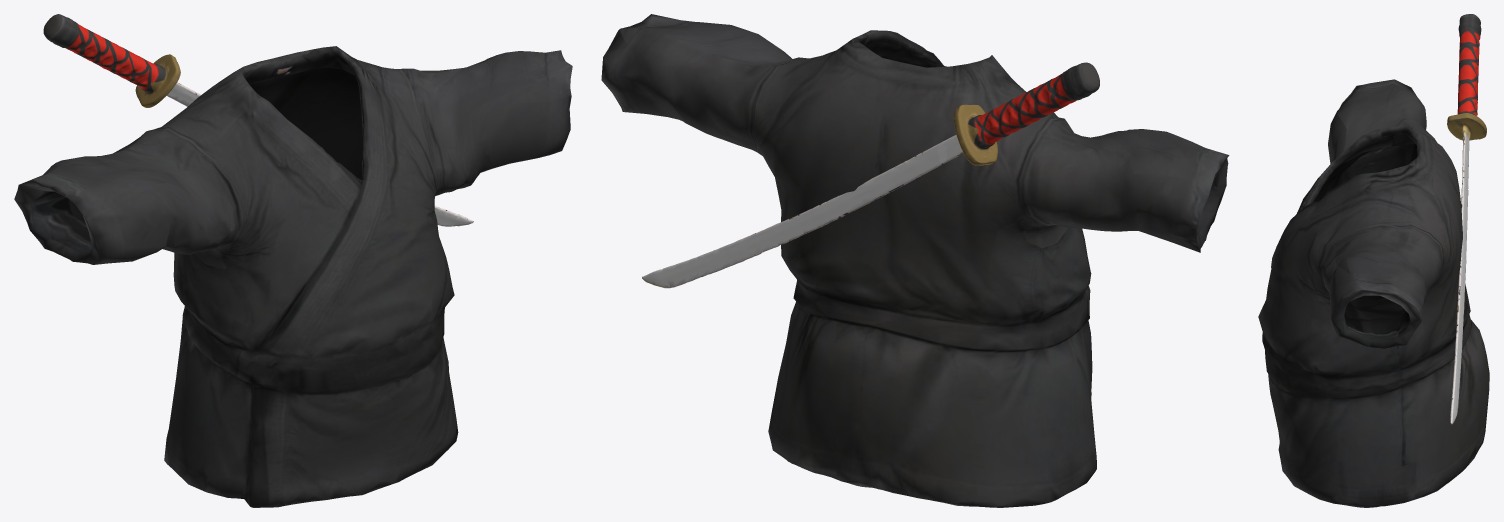
The model's file is Ninja.glb.
3 renders of one model, left to right at view 1: azimuth 30°, elevation 25°; view 2: azimuth 150°, elevation 25°; view 3: azimuth 270°, elevation 25°, orthographic. The views are drawn at different scales.
Parts seen in each view (by area): view 1: Ninja; view 2: Ninja; view 3: Ninja.
Boxes of the visible parts, x1=… form: Ninja: x1=14, y1=14, x2=572, y2=507; Ninja: x1=601, y1=14, x2=1229, y2=507; Ninja: x1=1258, y1=14, x2=1489, y2=507.
Size of the model in its own units: 0.7815 by 0.6218 by 0.3527.
2 materials, 2 textured.
